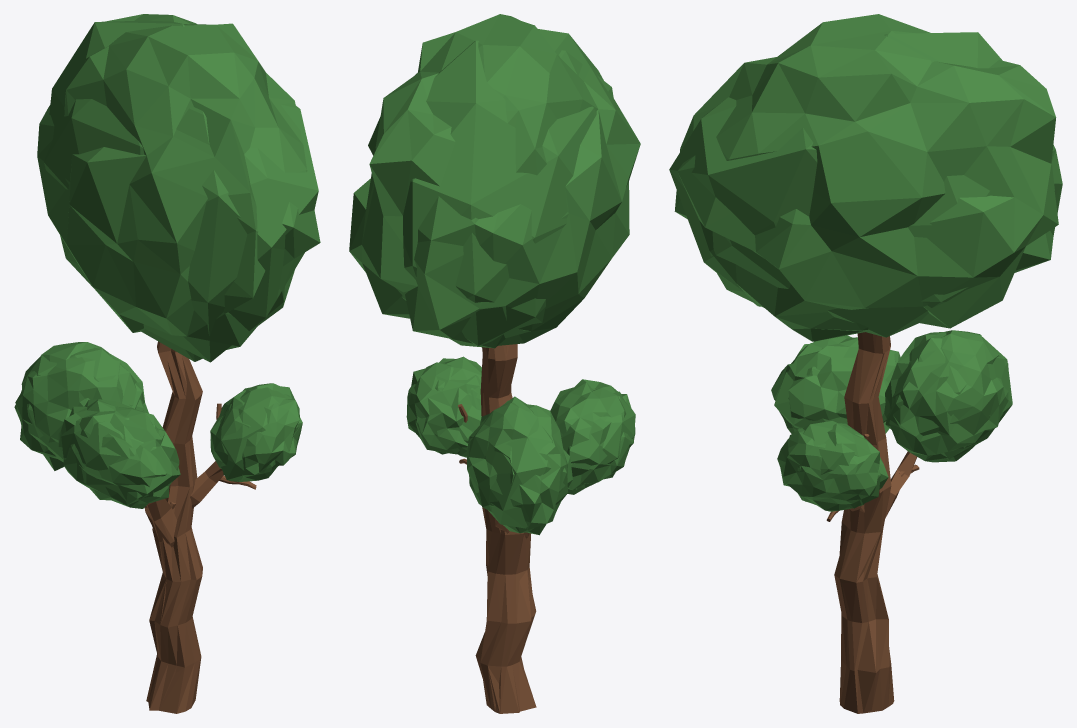
Rendered from TallTree(Clone).fbx.
The picture shows the model from 3 angles, left to right: view 1: azimuth 30°, elevation 25°; view 2: azimuth 150°, elevation 25°; view 3: azimuth 270°, elevation 25°; orthographic projection. The views are drawn at different scales.
Visible parts, largest first — view 1: Newly_merged_leaves, Newly_merged_leaves_LOD, Newly_merged_branches, Newly_merged_branches_LOD; view 2: Newly_merged_leaves, Newly_merged_leaves_LOD, Newly_merged_branches, Newly_merged_branches_LOD; view 3: Newly_merged_leaves, Newly_merged_leaves_LOD, Newly_merged_branches, Newly_merged_branches_LOD.
Boxes of the visible parts, x1,y1,x2,y2 form: Newly_merged_leaves: [14, 14, 320, 505]; Newly_merged_leaves_LOD: [21, 20, 318, 508]; Newly_merged_branches: [144, 349, 256, 713]; Newly_merged_branches_LOD: [145, 341, 202, 713]; Newly_merged_leaves: [349, 14, 640, 535]; Newly_merged_leaves_LOD: [396, 40, 635, 528]; Newly_merged_branches: [458, 345, 536, 713]; Newly_merged_branches_LOD: [480, 344, 534, 712]; Newly_merged_leaves: [674, 14, 1062, 511]; Newly_merged_leaves_LOD: [669, 32, 1054, 508]; Newly_merged_branches: [826, 332, 919, 713]; Newly_merged_branches_LOD: [839, 336, 894, 713].
Size of the model in its own units: 1077 by 3055 by 1598.
